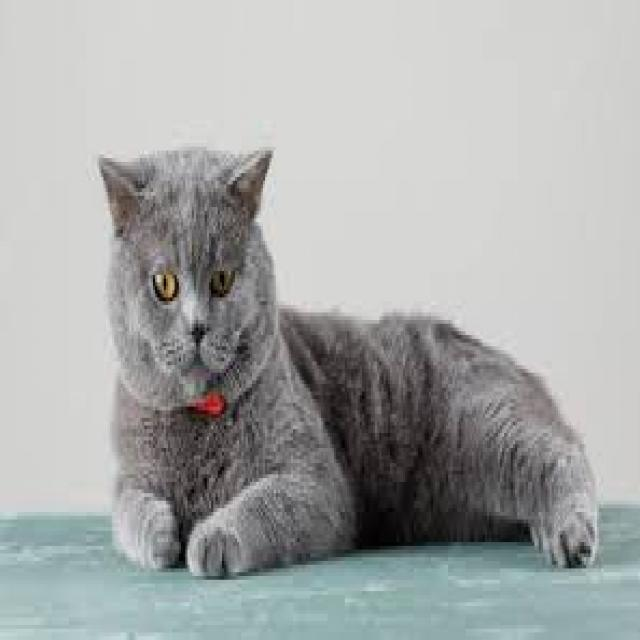Cat: (93, 137, 600, 585)
